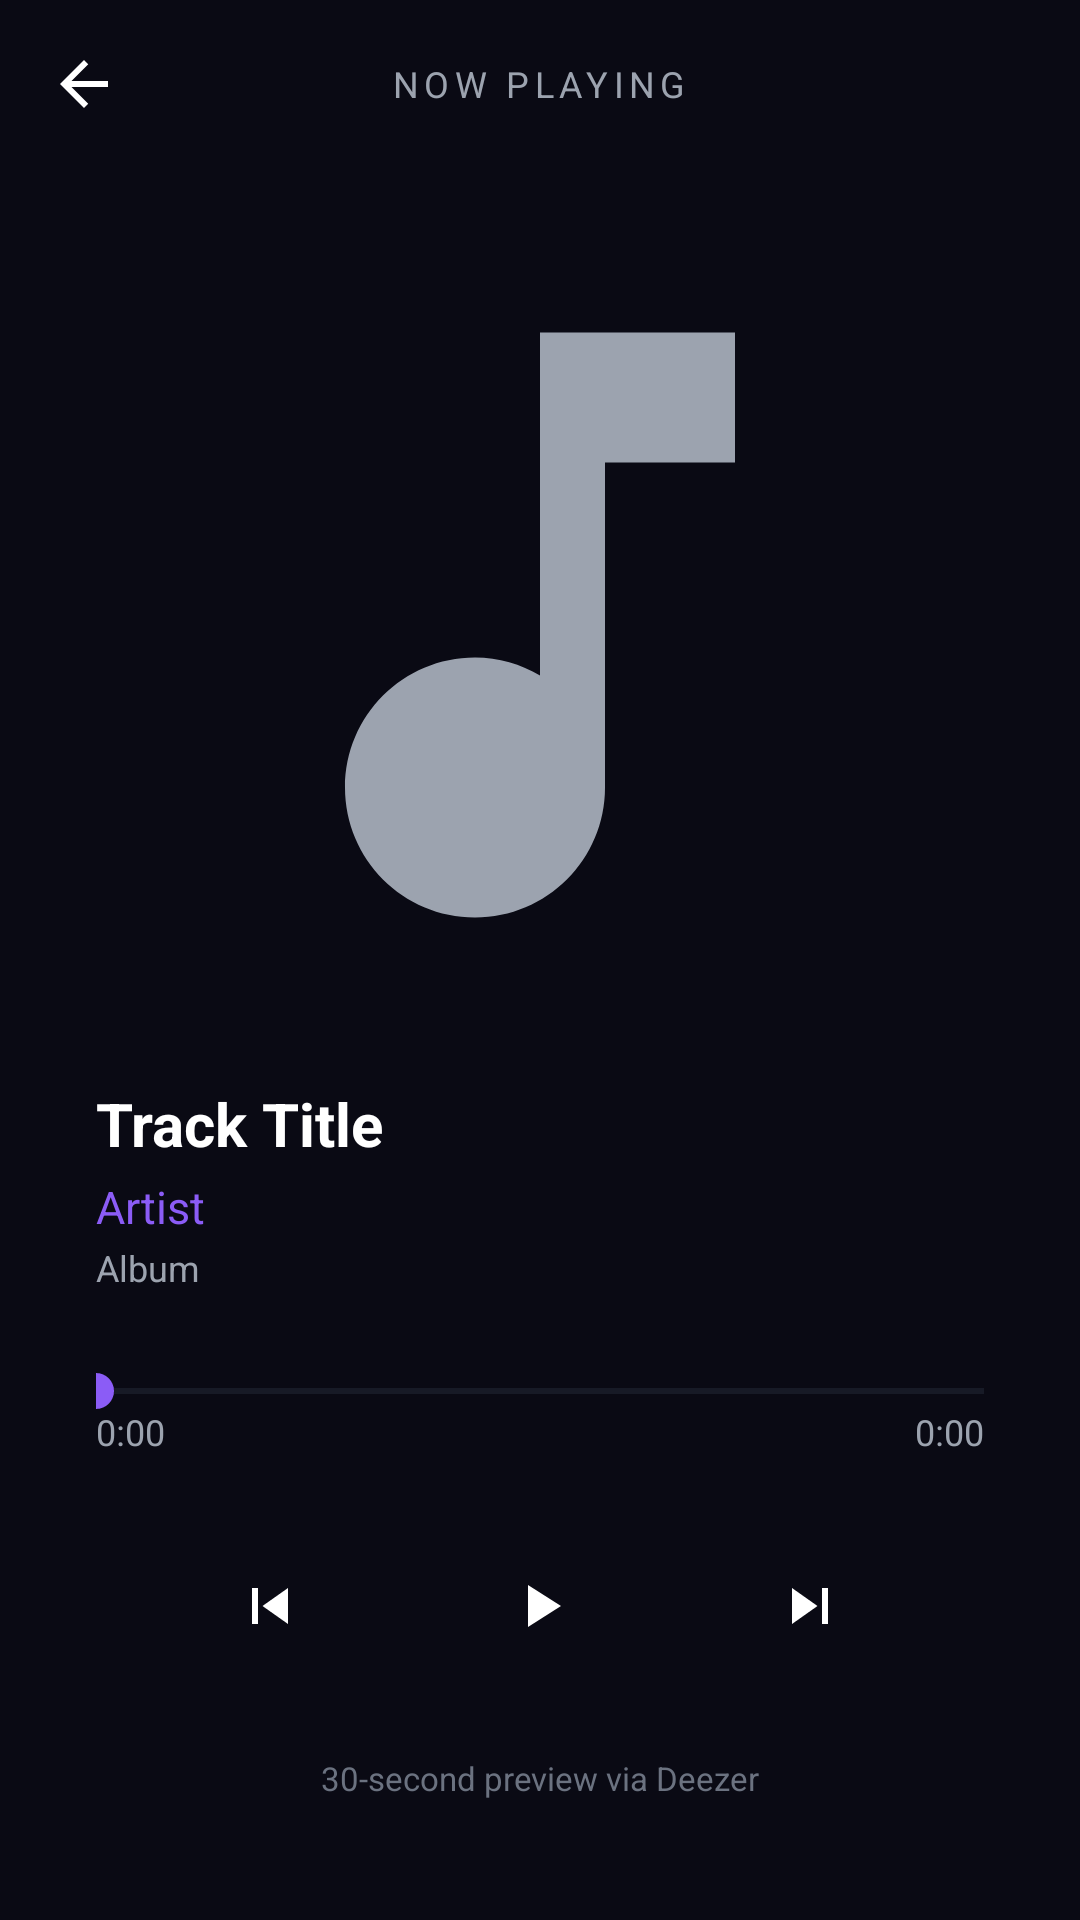

Point at icon controls on the screen. Image size 1080x1920, points as [x,y].
Back: [84,84]
Next: [810,1606]
Play: [544,1606]
Previous: [270,1606]
